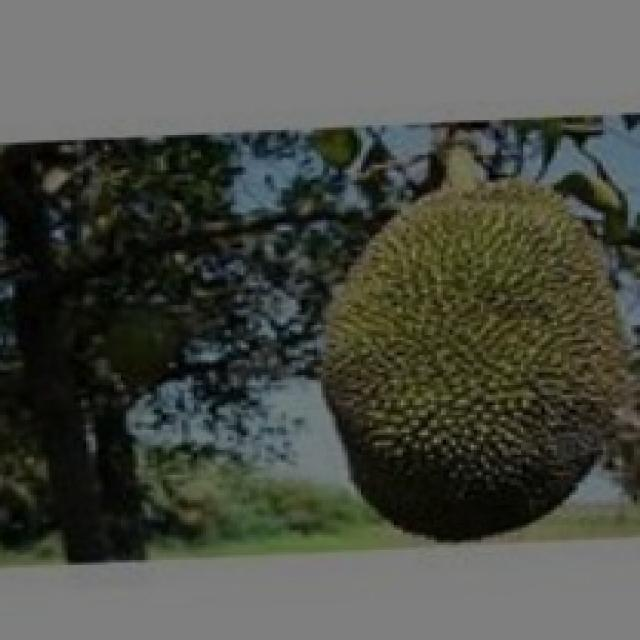Fruit: (277, 160, 640, 550)
